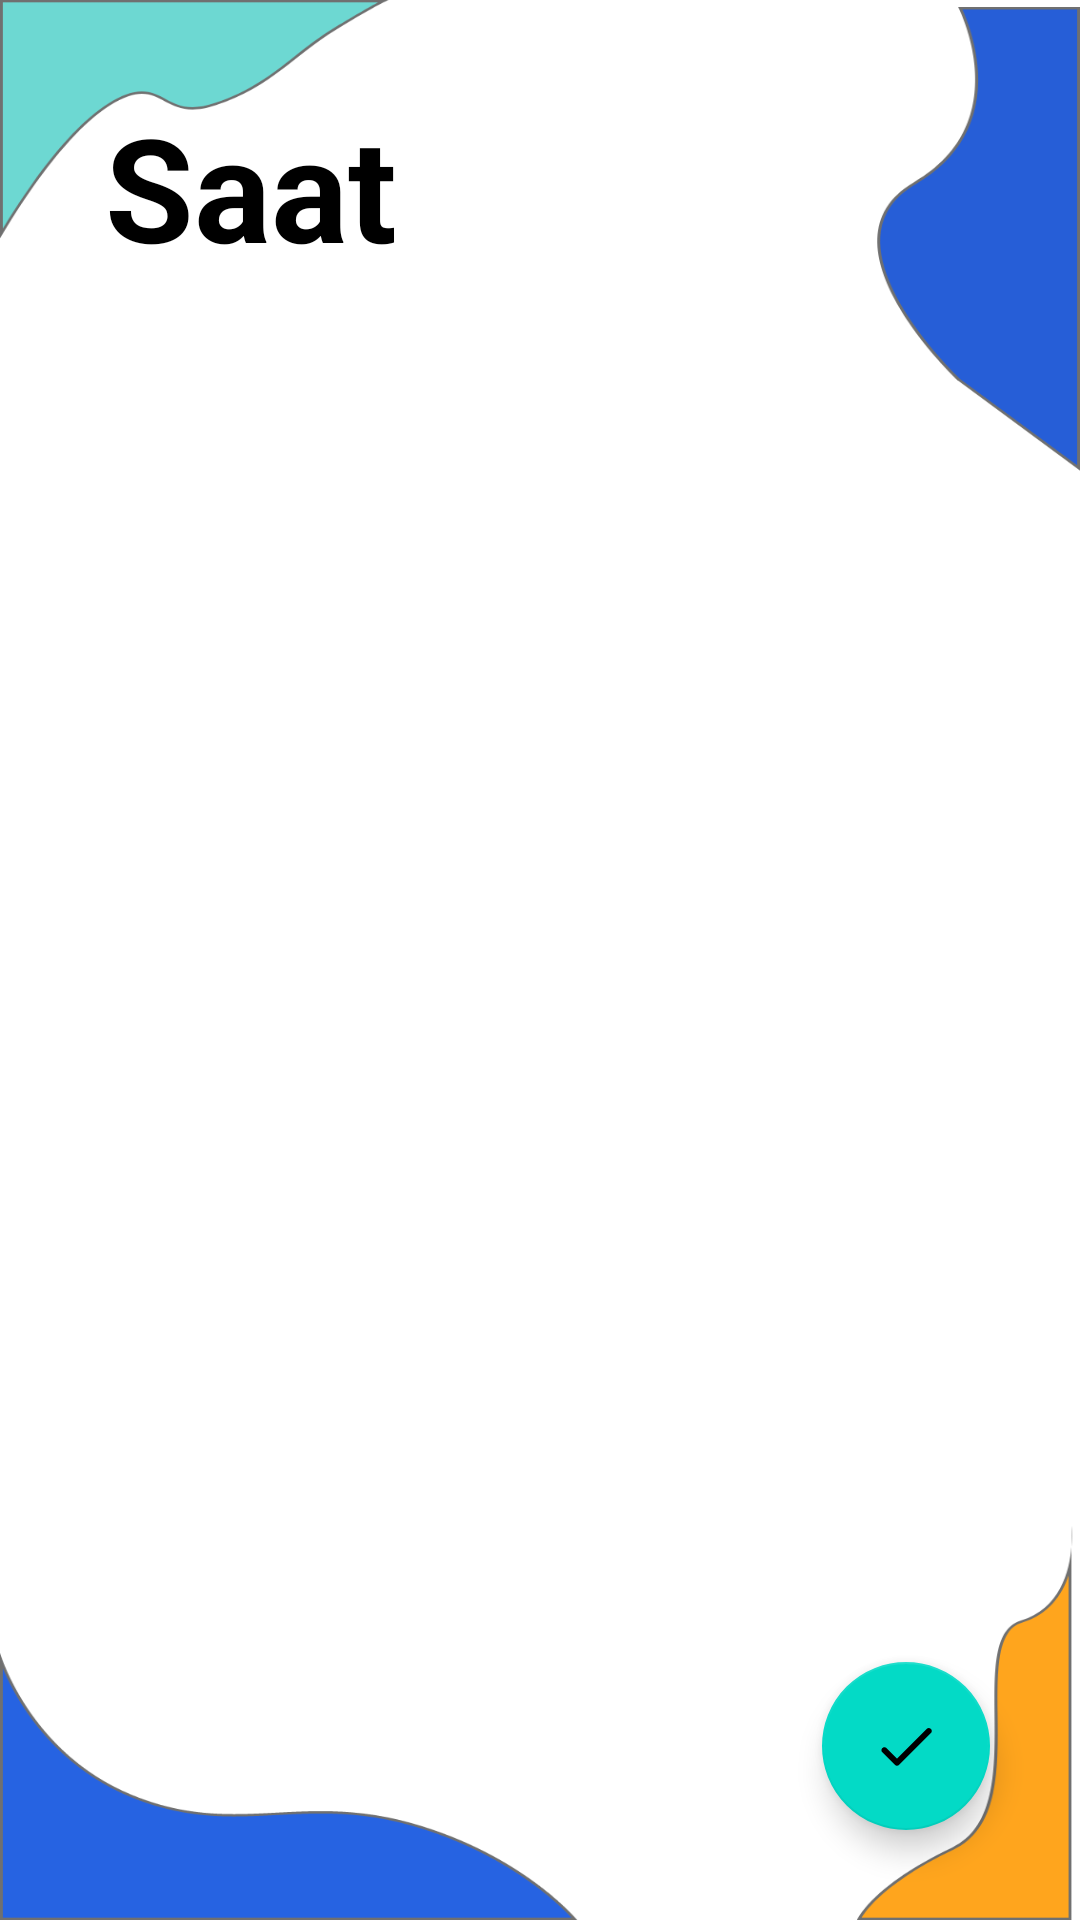

Icon click points for this 1080w x 1920h phone screenshot, format (x,y):
done: (906,1746)
